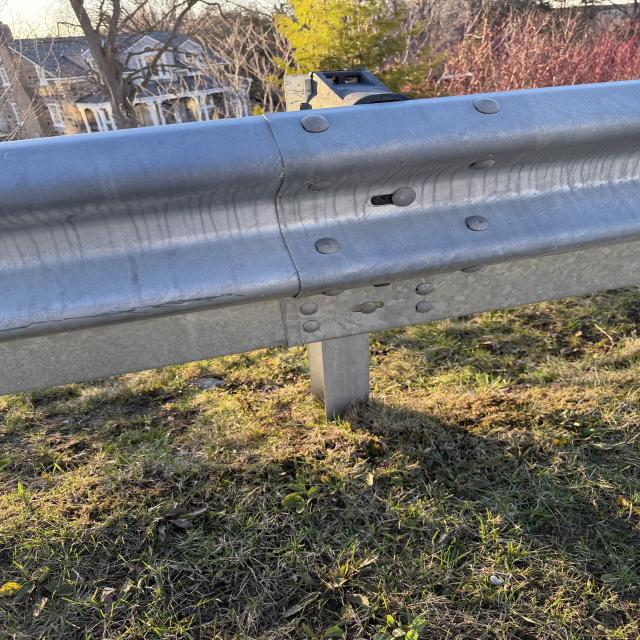Guard rail: (20, 92, 639, 333)
